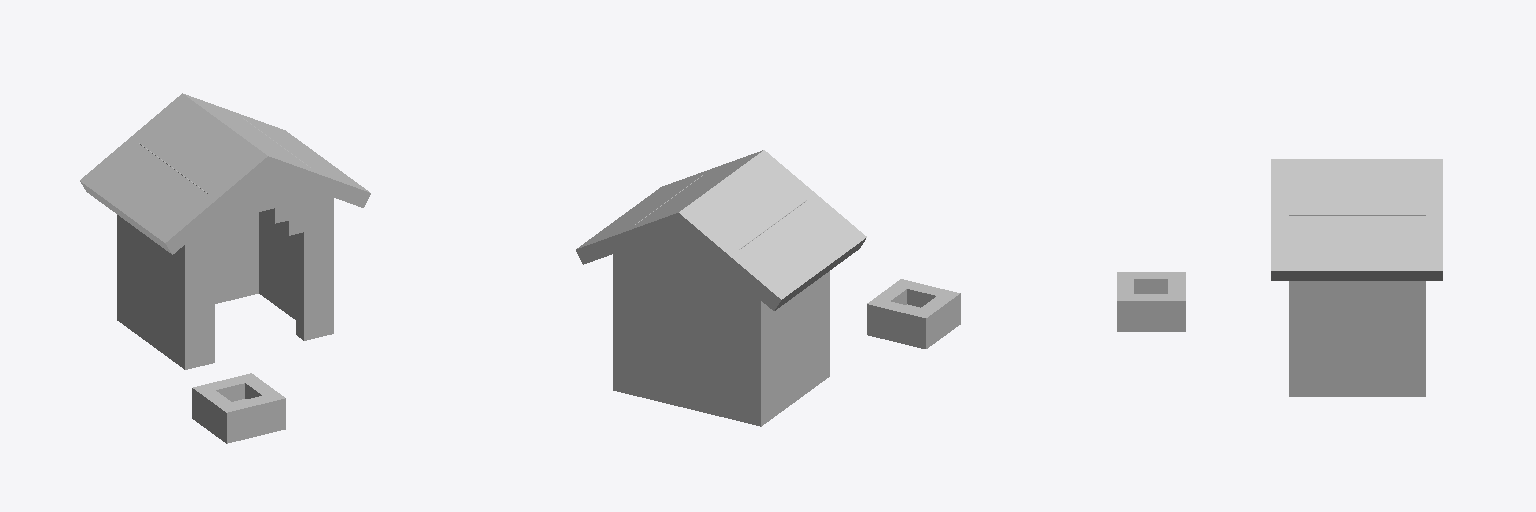
File: 623_doghouse.obj
3 renders of one model, left to right at view 1: azimuth 30°, elevation 25°; view 2: azimuth 150°, elevation 25°; view 3: azimuth 270°, elevation 25°, orthographic.
Parts seen in each view (by area): view 1: roof1, box10, box9, roof2, box8, box5, bowl1, box6, box3, bowl4, bowl3, box7 (+3 smaller); view 2: box8, roof1, box10, roof2, box9, bowl1, bowl2, bowl3, roof4, bowl4; view 3: roof2, box9, bowl3, bowl1.
Part boxes in pixels (x1,y1,x2,y2): roof1: (80, 93, 275, 254); box10: (117, 215, 199, 369); box9: (259, 192, 333, 336); roof2: (184, 94, 370, 207); box8: (215, 212, 258, 303); box5: (296, 213, 318, 340); bowl1: (192, 384, 240, 443); box6: (200, 239, 214, 365); box3: (210, 186, 318, 223); bowl4: (234, 396, 270, 439); bowl3: (238, 373, 285, 432); box7: (266, 198, 318, 223); box8: (628, 243, 746, 422); roof1: (671, 150, 866, 310); box10: (747, 271, 829, 426); roof2: (576, 150, 762, 264); box9: (613, 249, 627, 393); bowl1: (911, 290, 960, 348); bowl2: (882, 301, 918, 345); bowl3: (867, 279, 915, 338); roof4: (635, 175, 806, 258); bowl4: (907, 283, 944, 307); roof2: (1271, 159, 1442, 280); box9: (1289, 281, 1425, 396); bowl3: (1117, 294, 1185, 331); bowl1: (1117, 272, 1185, 293).
Bounding box in the file's own units: 0.933 × 0.8125 × 1.19.